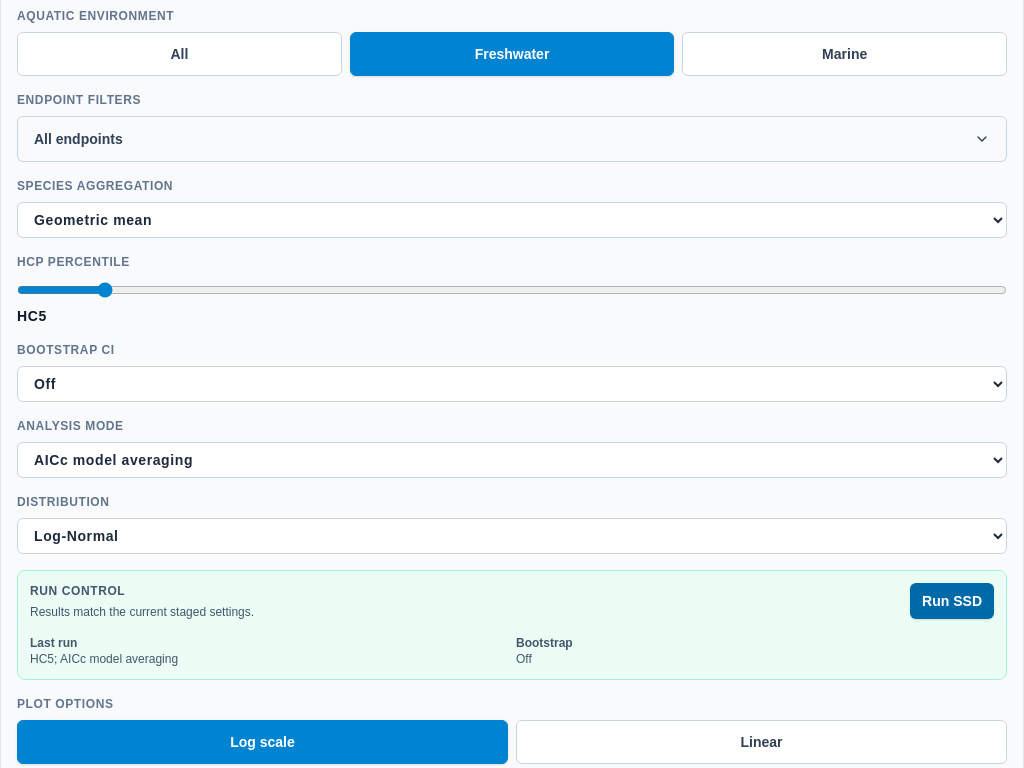
it: SsdWorkbench › can show optional bootstrap confidence interval output
(page scrolled)
Select "25 iterations" in the dropdown labelled "Bootstrap CI" at (512, 384), box [17, 366, 1007, 402]
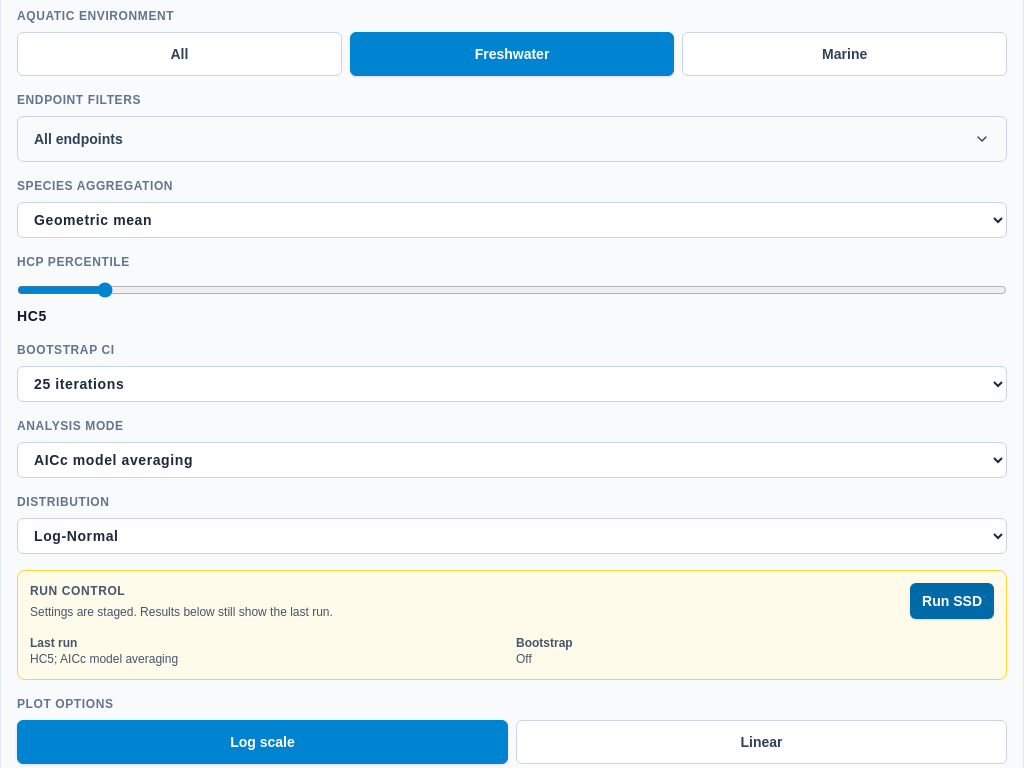
Expected: the text "deterministic TypeScript percentile" is not shown
Result: the text "Settings are staged. Results below still show the last run." is shown at [30, 603, 333, 623]
Click the button "Run SSD" at (952, 601), box [910, 583, 994, 619]
(page scrolled)
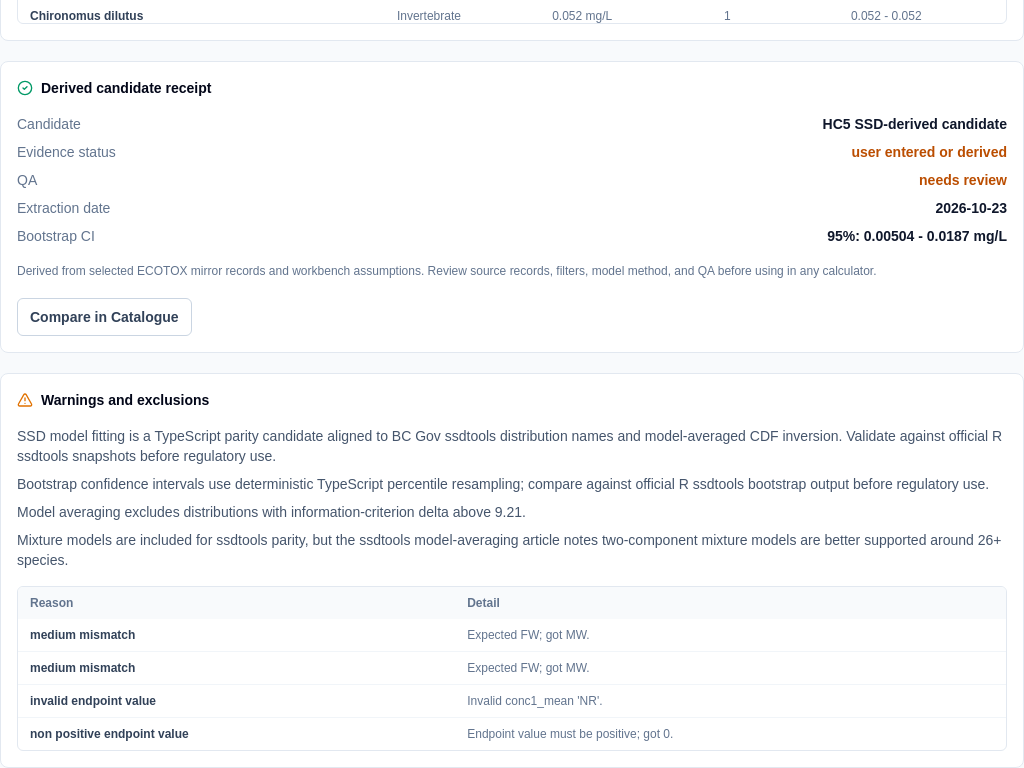
Result: the list item "deterministic TypeScript percentile" is shown at [17, 476, 989, 492]
